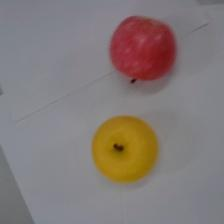red: (109, 16, 177, 84)
yellow: (92, 116, 157, 184)
